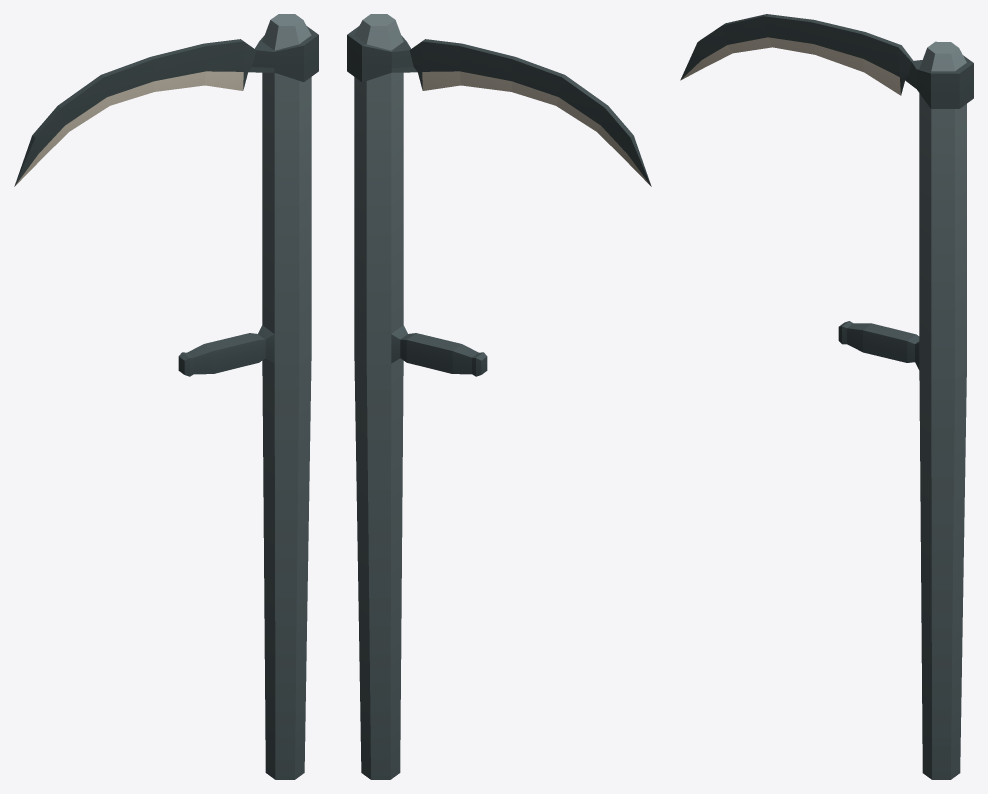
File: Scythe.fbx
The picture shows the model from 3 angles, left to right: view 1: azimuth 30°, elevation 25°; view 2: azimuth 150°, elevation 25°; view 3: azimuth 330°, elevation 25°; orthographic projection. The views are drawn at different scales.
Visible parts, largest first — view 1: Scythe; view 2: Scythe; view 3: Scythe.
Boxes of the visible parts, x1,y1,x2,y2 form: Scythe: (14,14,318,779); Scythe: (347,14,651,779); Scythe: (680,14,973,779).
Size of the model in its own units: 0.6025 by 1.46 by 0.1043.
Materials: 1 (1 with a texture image).
